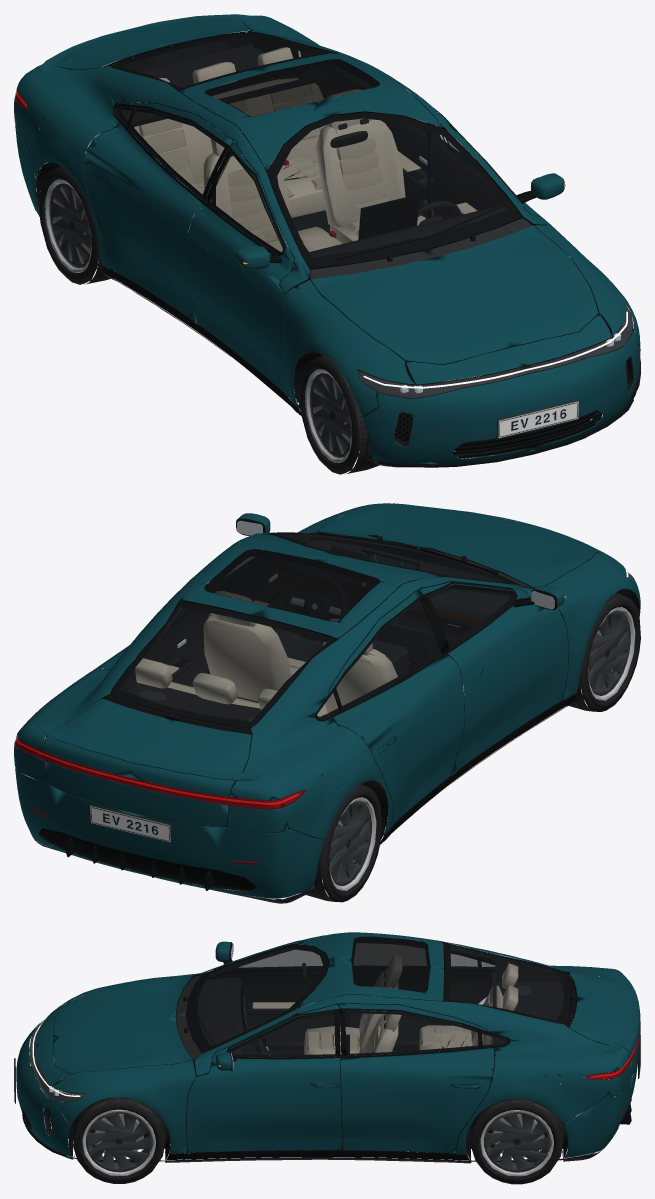
The model's file is electric-fastback.glb.
3 renders of one model, top to bottom at view 1: azimuth 30°, elevation 25°; view 2: azimuth 150°, elevation 25°; view 3: azimuth 270°, elevation 25°, orthographic. The views are drawn at different scales.
Visible parts, largest first — view 1: Body, Wheel_FR, Wheel_RR; view 2: Body, Wheel_RR, Wheel_FR, Steering_Wheel; view 3: Body, Wheel_FL, Wheel_RL.
Part boxes in pixels (x1,y1,x2,y2): Body: (14, 14, 640, 467); Wheel_FR: (299, 355, 379, 474); Wheel_RR: (39, 166, 110, 284); Body: (14, 503, 640, 903); Wheel_RR: (301, 784, 381, 902); Wheel_FR: (561, 592, 640, 711); Steering_Wheel: (286, 572, 346, 640); Body: (14, 932, 640, 1163); Wheel_FL: (72, 1097, 165, 1183); Wheel_RL: (470, 1099, 563, 1184).
Size of the model in its own units: 2.1 by 1.4 by 4.6.
58 materials, 12 textured.
